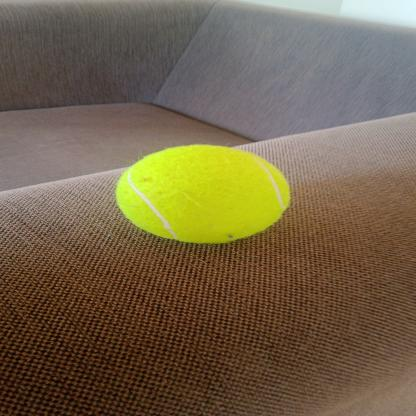Tennis: (109, 144, 297, 248)
